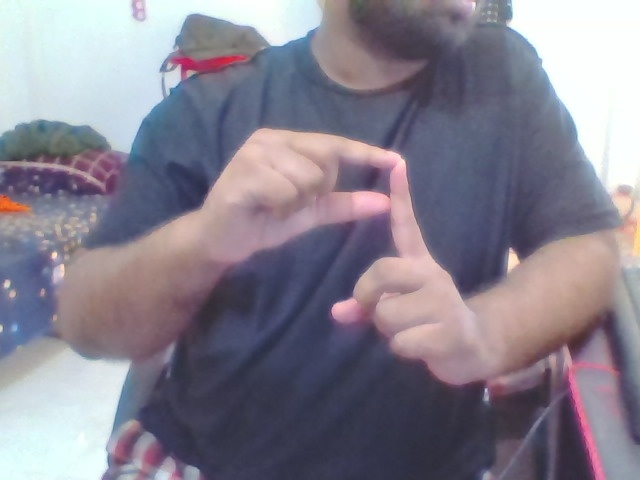P: (204, 112, 496, 400)
